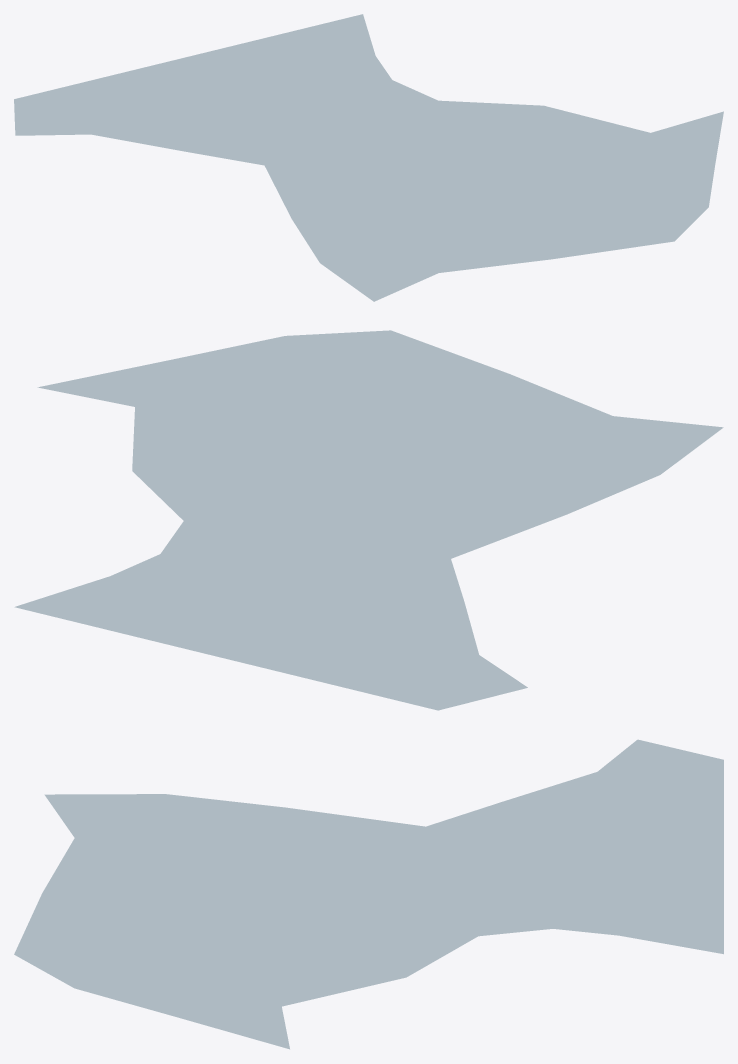
File: suelo_nieve.fbx
The picture shows the model from 3 angles, top to bottom: view 1: azimuth 30°, elevation 25°; view 2: azimuth 150°, elevation 25°; view 3: azimuth 270°, elevation 25°; orthographic projection. The views are drawn at different scales.
Parts seen in each view (by area): view 1: Cylinder002; view 2: Cylinder002; view 3: Cylinder002.
Part boxes in pixels (bbox=[...]): Cylinder002: bbox=[14, 14, 723, 301]; Cylinder002: bbox=[14, 330, 723, 710]; Cylinder002: bbox=[14, 739, 723, 1049].
Size of the model in its own units: 116 by 3.12e-07 by 112.
